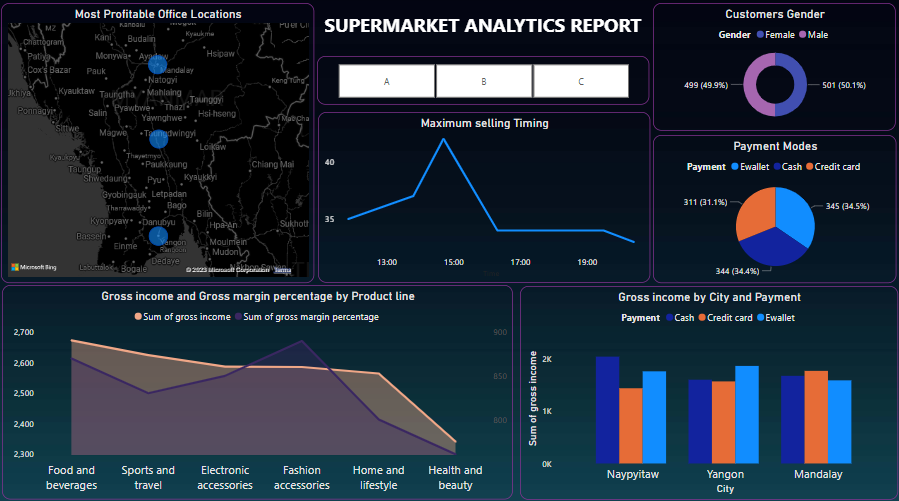

Layout of this report page (visuals, bound fields, positions):
{"tool":"powerbi","page":{"name":"Page 1","canvas":[1280,720],"ordinal":0},"visuals":[{"type":"donutChart","title":"Customers Gender","fields":{"Y":["CountNonNull(SUPERMARKET.Gender)"],"Category":["SUPERMARKET.Gender"]},"box":[928.3,2.8,350.1,182.8],"z":0},{"type":"pieChart","title":"Payment Modes","fields":{"Category":["SUPERMARKET.Payment"],"Y":["CountNonNull(SUPERMARKET.Payment)"]},"box":[929.8,189.9,345.8,209.8],"z":1000},{"type":"map","title":"Most Profitable Office Locations","fields":{"Category":["SUPERMARKET.City"],"Size":["CountNonNull(SUPERMARKET.City)"]},"box":[4.3,2.8,443.6,396.9],"z":2000},{"type":"lineClusteredColumnComboChart","title":"Gross income by City and Payment","fields":{"Category":["SUPERMARKET.City"],"Y":["Sum(SUPERMARKET.gross income)"],"Series":["SUPERMARKET.Payment"]},"box":[739.8,406.8,535.7,309],"z":5000},{"type":"slicer","fields":{"Values":["SUPERMARKET.Branch"]},"box":[452.9,78.6,471.4,68.6],"z":6000},{"type":"lineChart","title":"Maximum selling Timing","fields":{"Category":["SUPERMARKET.Time"],"Y":["Sum(SUPERMARKET.Quantity)"]},"box":[453.5,157.3,470.6,242.4],"z":7000},{"type":"areaChart","title":"Gross income and Gross margin percentage by Product line","fields":{"Category":["SUPERMARKET.Product line"],"Y":["Sum(SUPERMARKET.gross income)"],"Y2":["Sum(SUPERMARKET.gross margin percentage)"]},"box":[4.3,405.4,724.3,310.4],"z":8000},{"type":"textbox","box":[448.6,14.3,478.6,51.4],"z":8001}]}

Visuals, with their boxes in screenshot pixels (x1, y1, x2, y2), scaled from the page's 1280x720 canvas onto the 899x501 screenshot:
"Customers Gender" donutChart: rect(652, 2, 898, 129)
"Payment Modes" pieChart: rect(653, 132, 896, 278)
"Most Profitable Office Locations" map: rect(3, 2, 315, 278)
"Gross income by City and Payment" lineClusteredColumnComboChart: rect(520, 283, 896, 498)
slicer - SUPERMARKET.Branch: rect(318, 55, 649, 102)
"Maximum selling Timing" lineChart: rect(319, 109, 649, 278)
"Gross income and Gross margin percentage by Product line" areaChart: rect(3, 282, 512, 498)
textbox: rect(315, 10, 651, 46)
